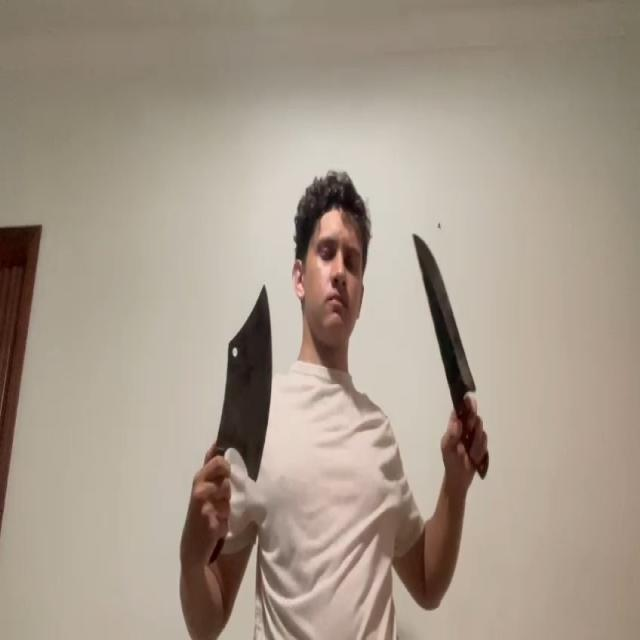knife: (411, 232, 475, 394), (224, 282, 272, 483)
